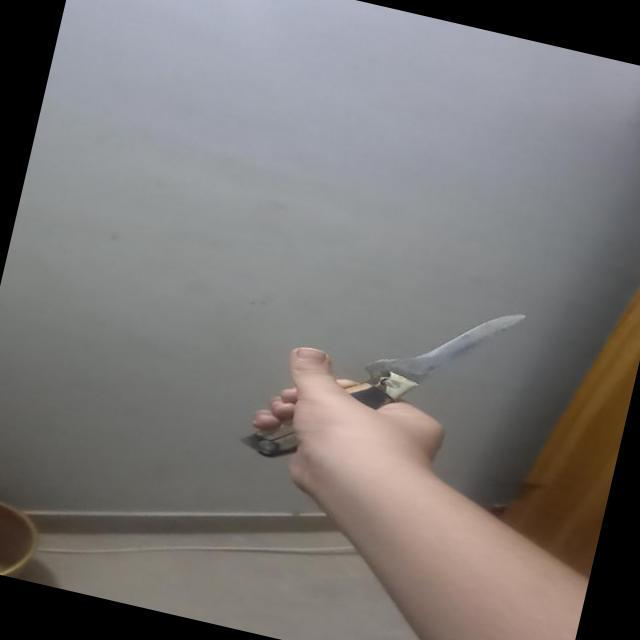Knife: (223, 249, 540, 508)
